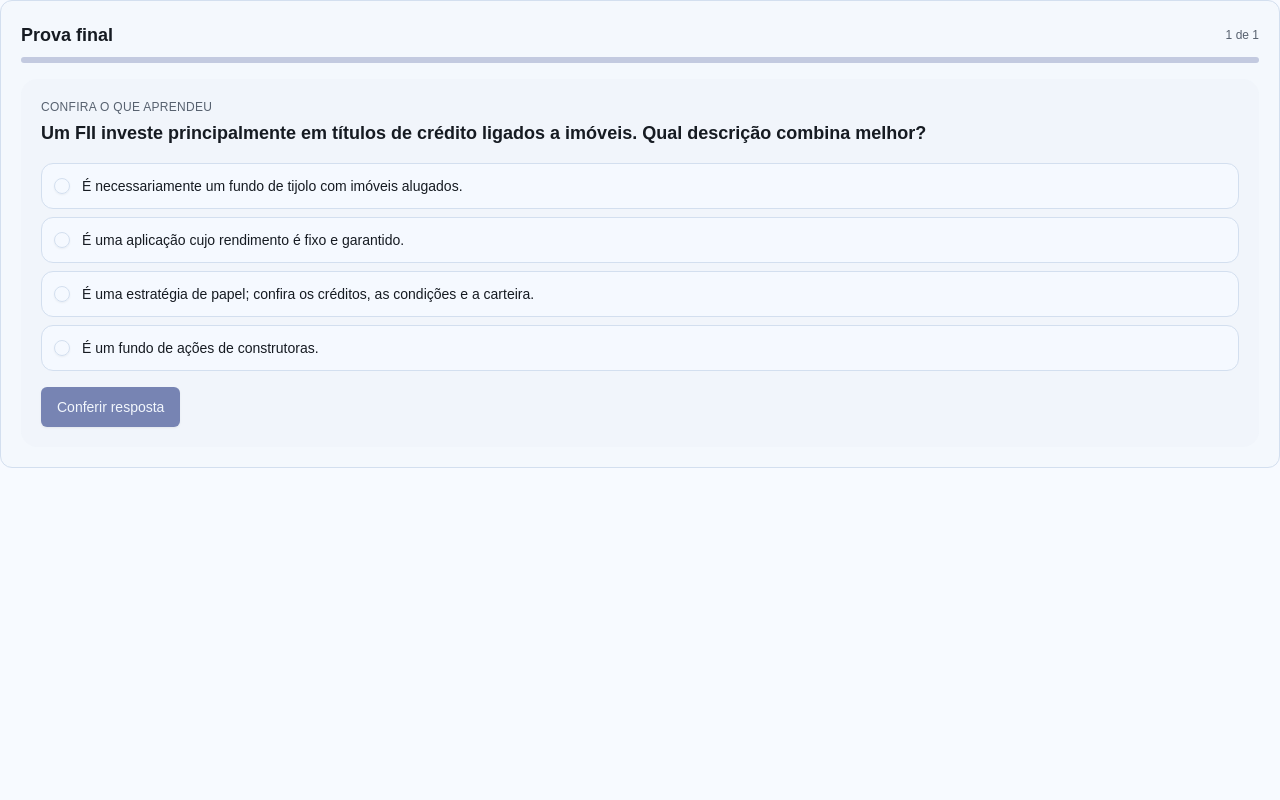
Scenario: AssetClassLearningAssessment › does not repeat the celebration when the course was already passed
The image size is (1280, 800).
Click the 3rd radio button named "É uma estratégia de papel; confira os créditos, as condições e a carteira.": (62, 294) x1=54 y1=286 x2=70 y2=302
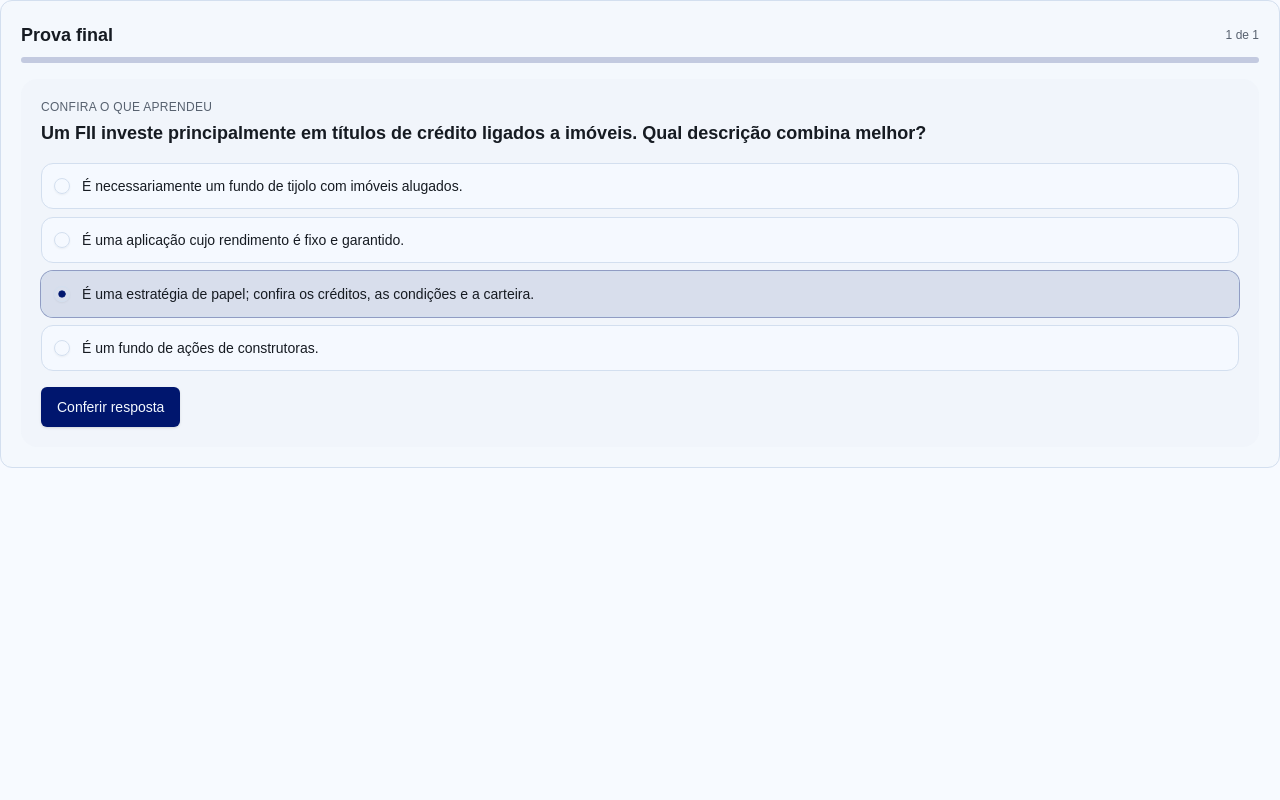
Click the button "Conferir resposta": (111, 407) x1=41 y1=387 x2=180 y2=427
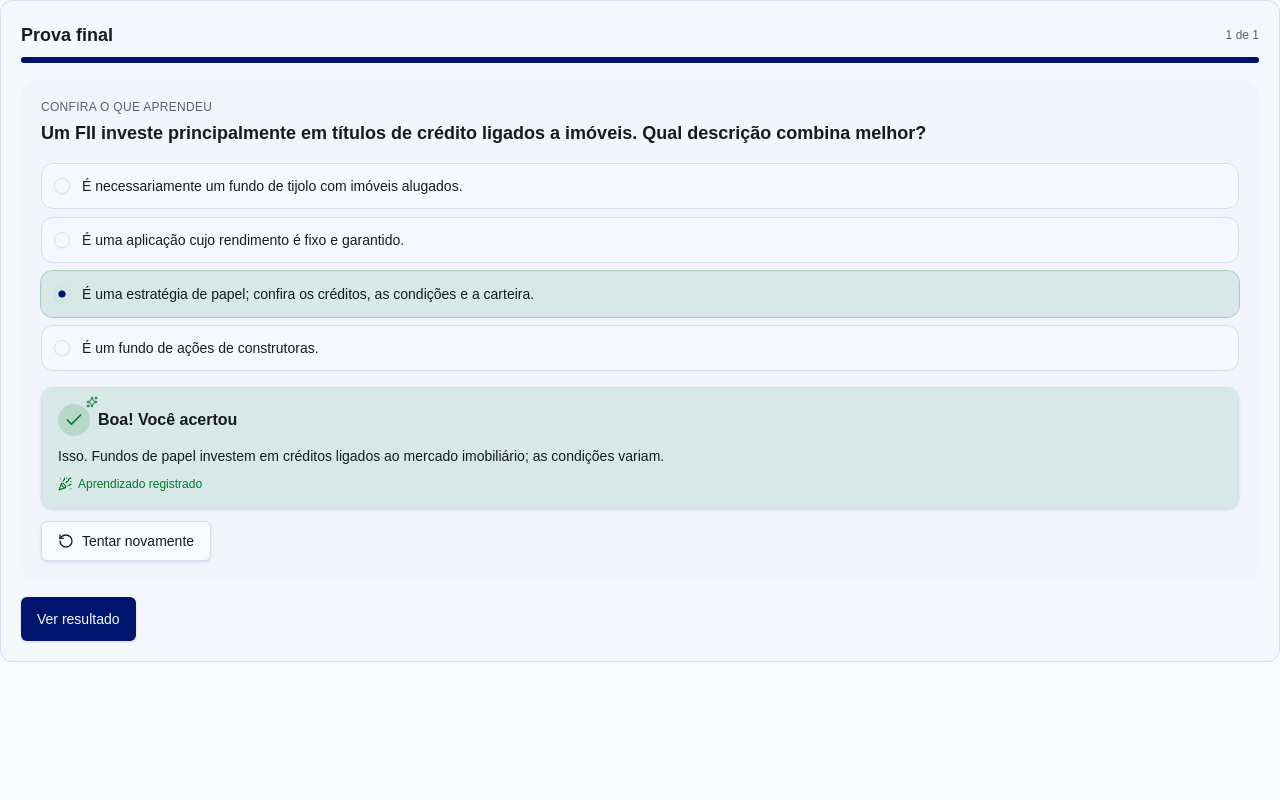
Click the button "Ver resultado": (78, 619) x1=21 y1=597 x2=136 y2=641
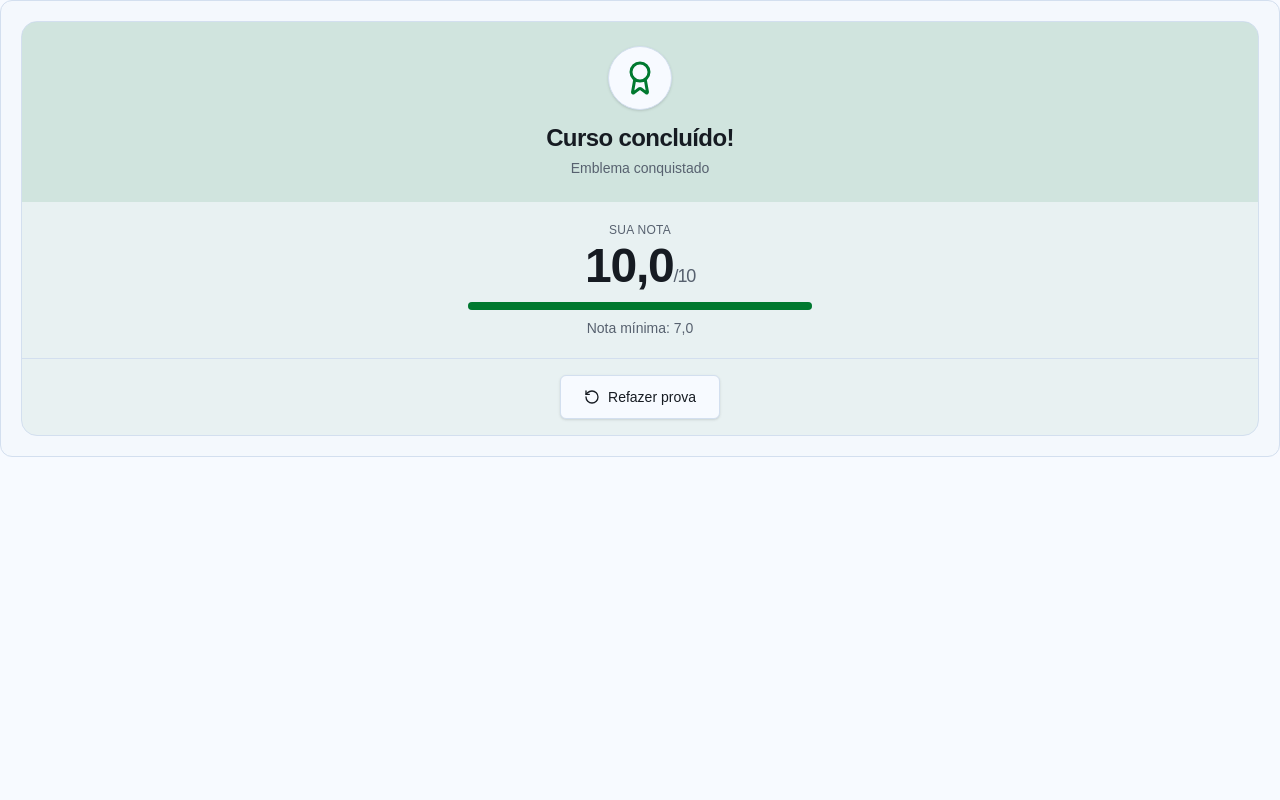
Check: the heading "Curso concluído!" is shown, box x1=546 y1=124 x2=734 y2=151
